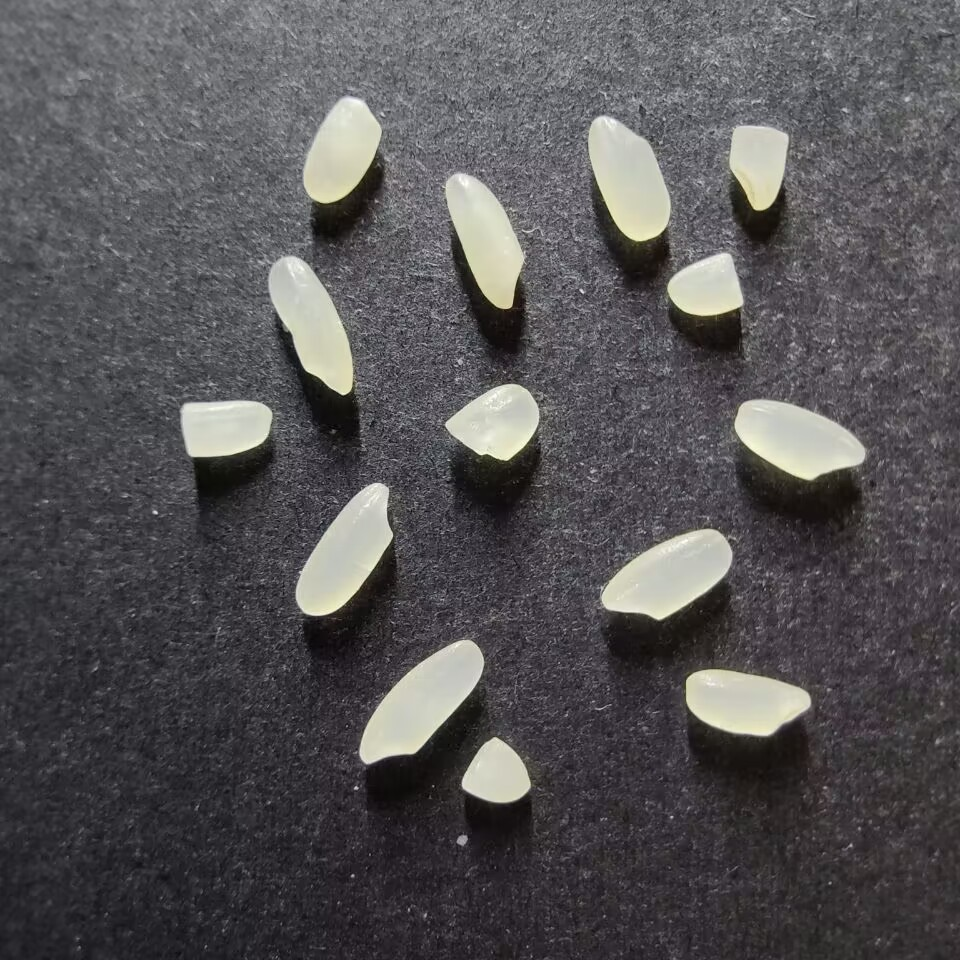broken: (443, 383, 540, 462), (728, 124, 789, 211), (180, 400, 271, 458), (666, 252, 743, 315), (460, 736, 530, 803)
rice: (357, 638, 484, 764), (294, 482, 393, 617), (600, 528, 733, 620), (267, 255, 354, 395), (733, 399, 866, 481), (445, 172, 524, 309), (587, 115, 670, 241), (684, 668, 810, 736), (302, 96, 380, 204)
